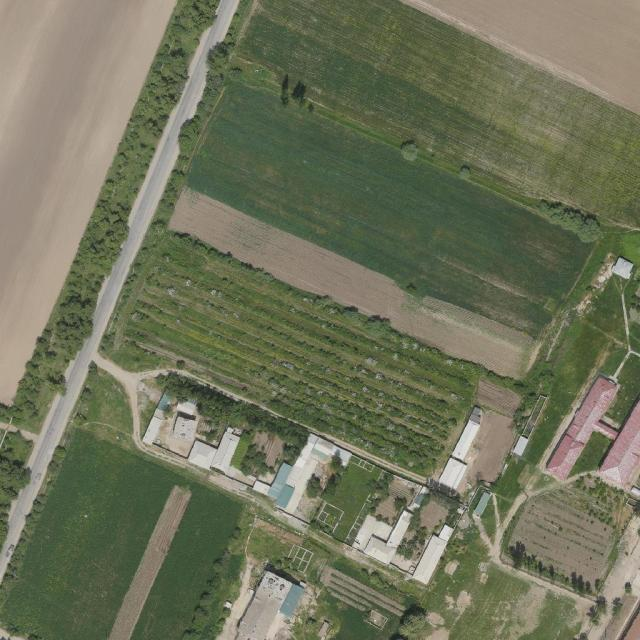agricultural_land: (97, 221, 499, 504), (165, 186, 543, 387), (505, 471, 633, 591), (107, 483, 193, 640), (314, 564, 407, 630), (468, 411, 519, 487), (119, 374, 167, 438), (414, 497, 451, 534), (292, 490, 325, 525), (364, 535, 398, 566), (284, 544, 314, 574), (315, 502, 344, 531)
building: (260, 424, 355, 522), (153, 393, 210, 459), (186, 416, 243, 477), (410, 521, 455, 585), (411, 533, 449, 586), (351, 515, 393, 560), (385, 507, 415, 550), (278, 582, 306, 619), (439, 457, 468, 490), (171, 412, 199, 441), (140, 414, 164, 446), (611, 256, 637, 281), (472, 490, 493, 518), (390, 552, 414, 573), (510, 434, 530, 458)
dryland: (232, 570, 293, 640)
greenland: (180, 71, 596, 355), (138, 364, 310, 491), (446, 559, 555, 640), (173, 36, 238, 159), (533, 318, 612, 415), (308, 452, 383, 542), (500, 582, 579, 640), (533, 189, 607, 248), (518, 587, 591, 640), (582, 278, 640, 339), (519, 404, 566, 469), (568, 430, 614, 487), (243, 528, 294, 571), (490, 456, 534, 504), (542, 310, 575, 363), (393, 521, 434, 562), (302, 462, 335, 502), (395, 608, 435, 640), (192, 412, 228, 447), (584, 593, 612, 627), (329, 456, 344, 471)
unmetalled_road: (92, 339, 172, 447), (543, 310, 575, 363), (621, 280, 630, 353)
